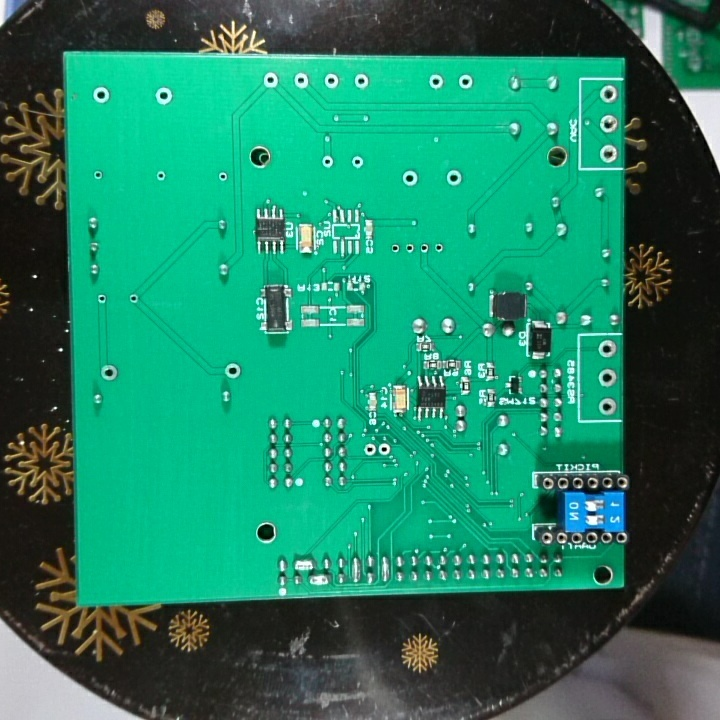F: (596, 365, 619, 390), (442, 166, 465, 189), (152, 83, 174, 107), (596, 395, 618, 418), (222, 360, 244, 383), (97, 361, 120, 383), (91, 83, 113, 106), (596, 83, 619, 105), (597, 112, 619, 135), (597, 142, 619, 165), (597, 338, 618, 361), (261, 69, 282, 92), (351, 70, 372, 92), (291, 69, 311, 90), (322, 70, 342, 91), (400, 168, 420, 189), (426, 72, 445, 92), (456, 72, 474, 92), (319, 152, 337, 171), (349, 153, 366, 172), (377, 440, 393, 459), (361, 440, 377, 458), (431, 239, 447, 257), (153, 167, 169, 184), (387, 240, 404, 256), (415, 240, 431, 257), (95, 291, 110, 308), (91, 166, 104, 183), (402, 240, 416, 255), (127, 291, 140, 307), (216, 168, 229, 183)
P: (378, 552, 392, 585), (292, 555, 317, 573), (306, 572, 334, 588), (349, 553, 362, 585)
